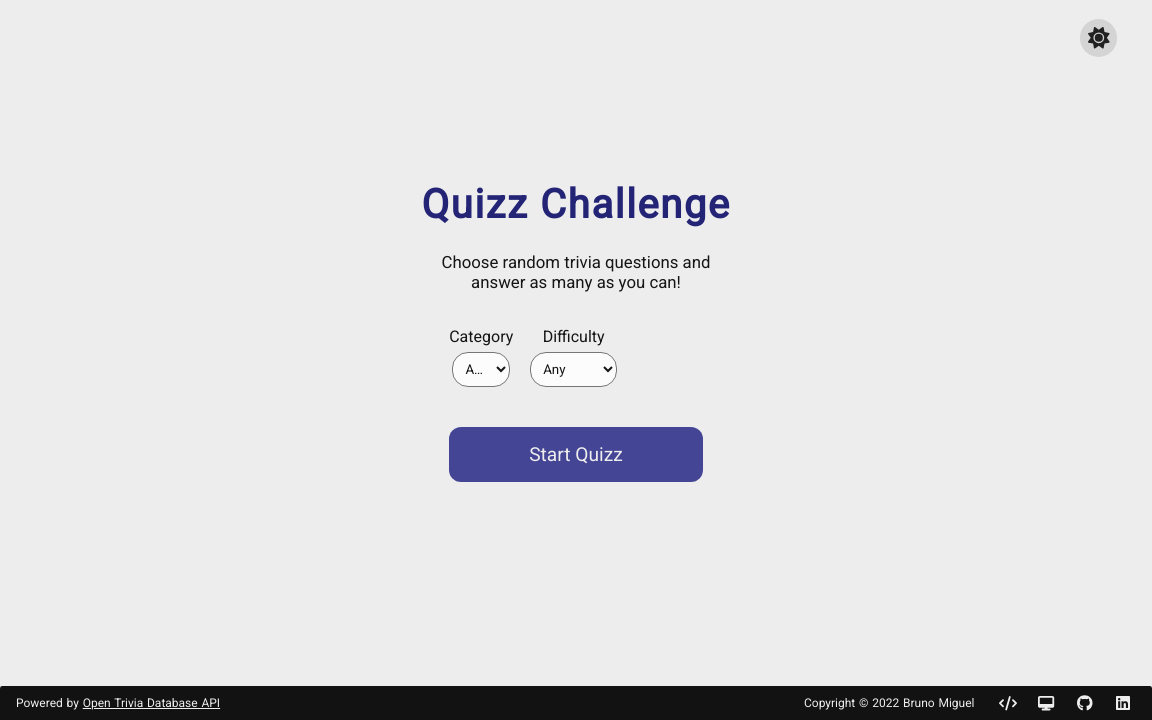
Test: quizz game page should receive questions of easy difficulty and any category
Select "Any" in the dropdown labelled "Category" at (481, 369), box [452,352,510,387]
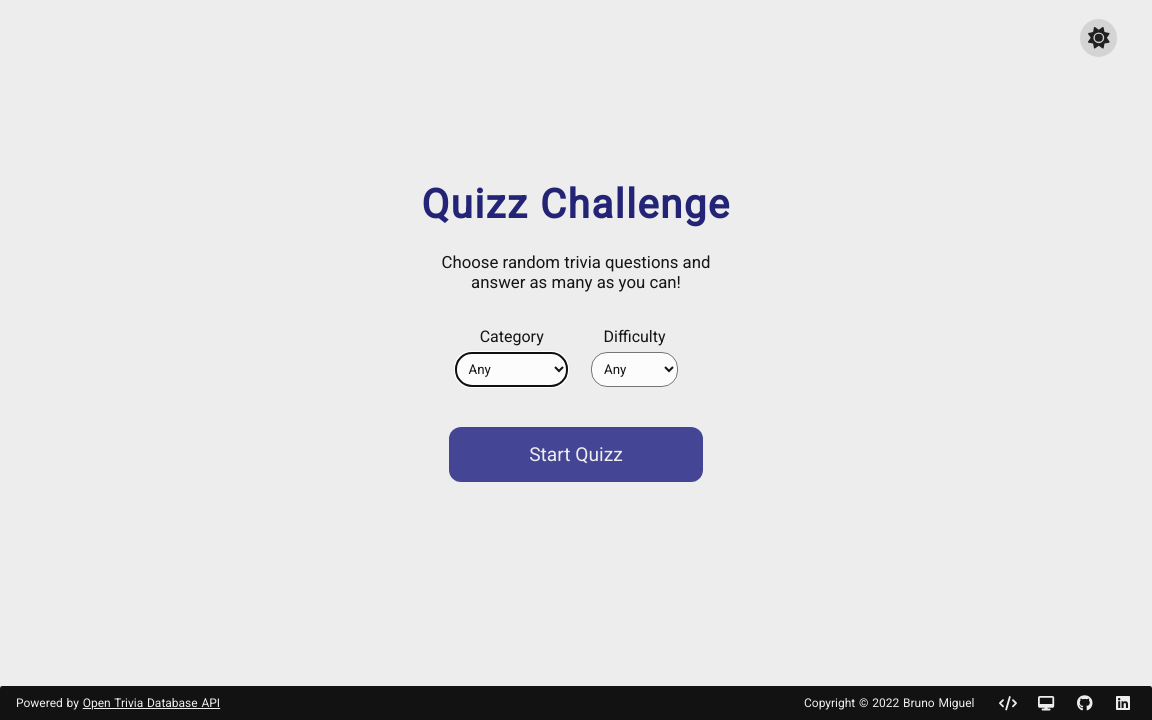
Select "Easy" in the dropdown labelled "Difficulty" at (635, 369), box [591,352,678,387]
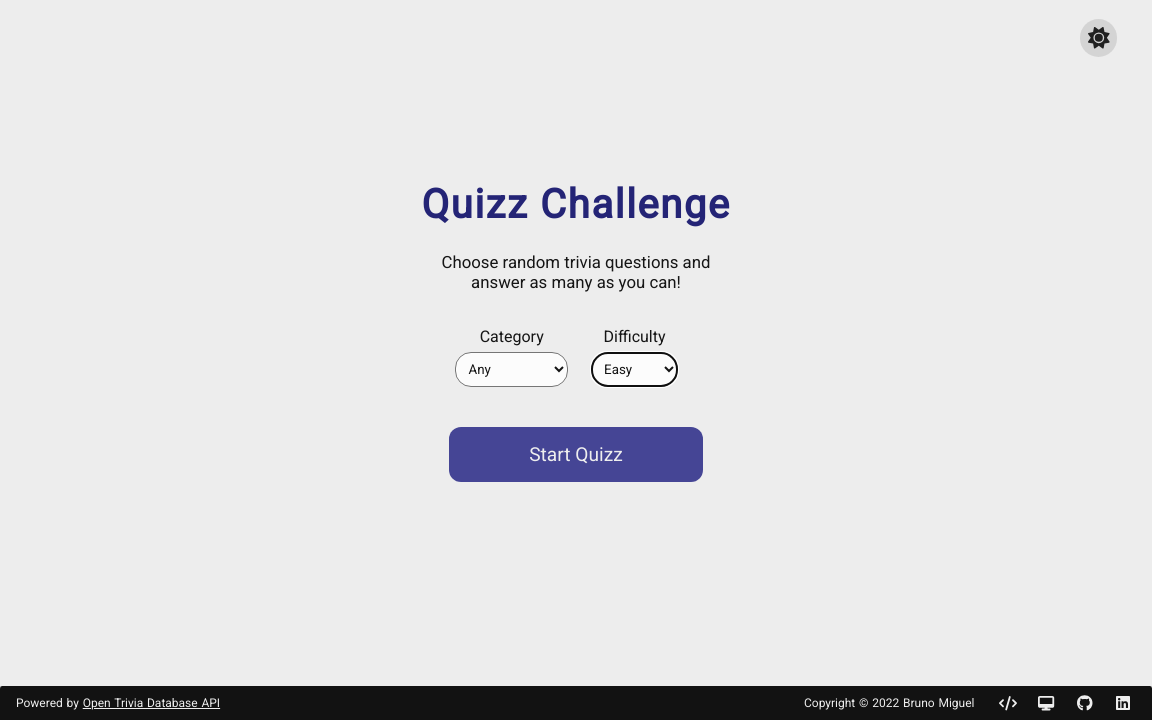
Click the button "Start Quizz" at (576, 454), box [449,427,703,482]
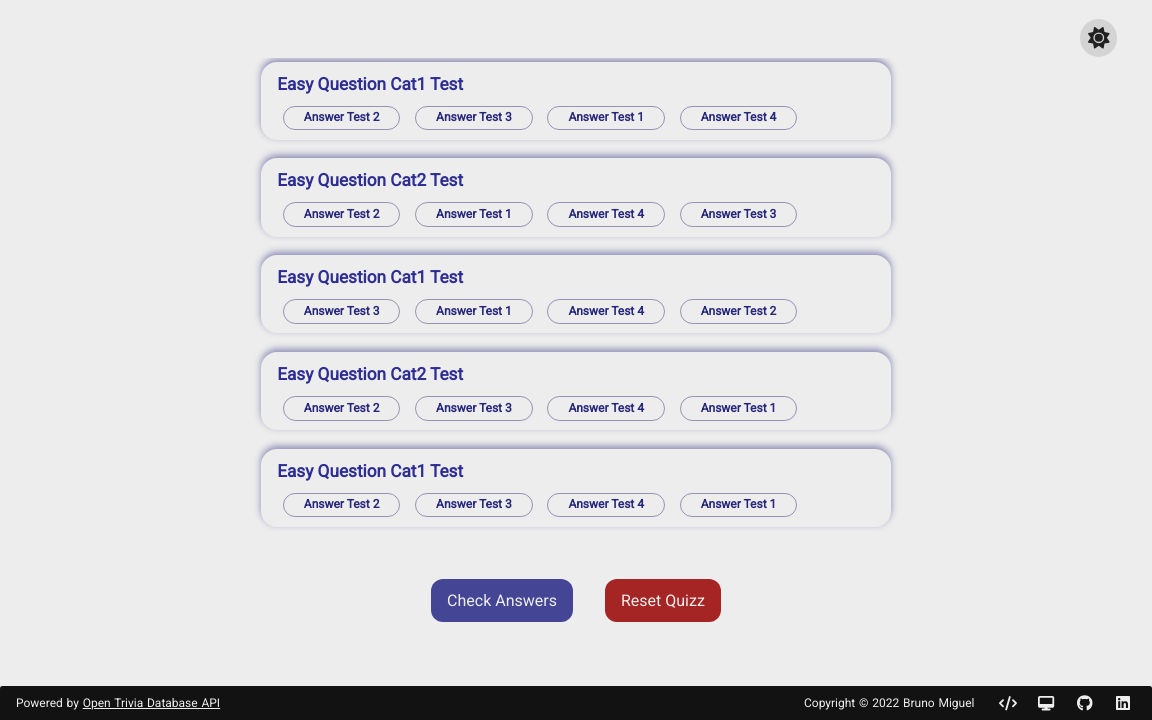
Result: the number of headings "Easy Question Cat1 Test" is 5 at [277,74,463,94]; [277,170,463,190]; [277,267,463,287]; [277,364,463,384]; [277,461,463,481]
